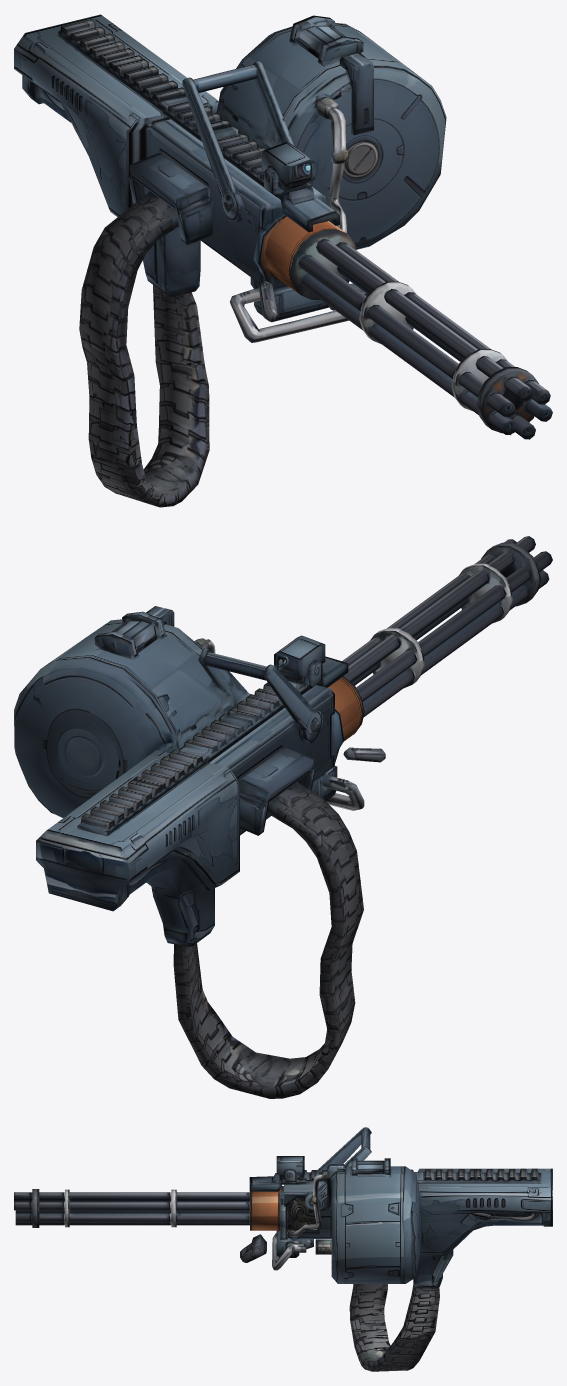
The picture shows the model from 3 angles, top to bottom: view 1: azimuth 30°, elevation 25°; view 2: azimuth 150°, elevation 25°; view 3: azimuth 270°, elevation 25°; orthographic projection. The views are drawn at different scales.
Parts seen in each view (by area): view 1: gun, spin; view 2: gun, spin; view 3: gun, spin.
Boxes of the visible parts, <box> form: gun: <box>14,14,446,507</box>; spin: <box>265,214,552,439</box>; gun: <box>14,606,385,1098</box>; spin: <box>328,536,552,741</box>; gun: <box>240,1127,552,1371</box>; spin: <box>14,1186,283,1230</box>.
Size of the model in its own units: 1.05 by 1.35 by 2.6.
Materials: 1 (1 with a texture image).
